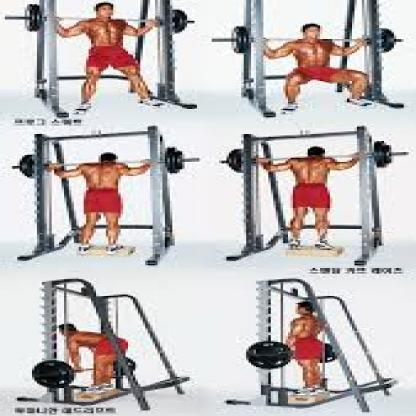smith machine: (13, 128, 202, 267)
